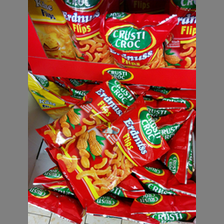chips: (46, 94, 168, 201), (98, 12, 172, 67), (55, 1, 110, 62)
